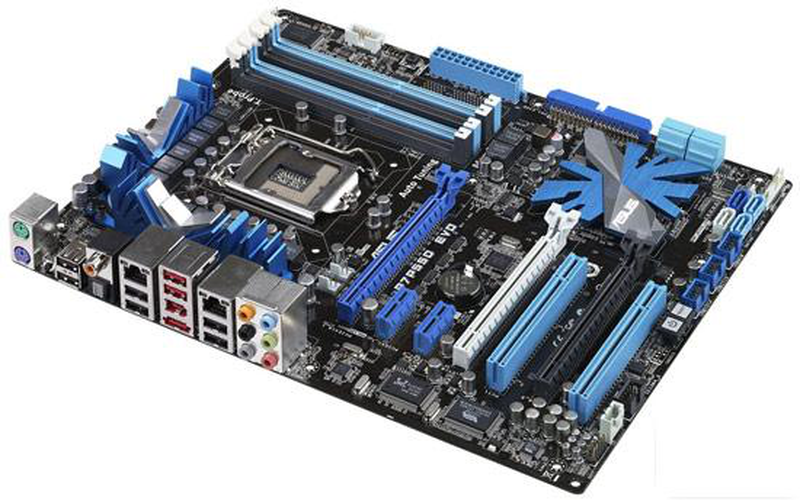Cirtuit-Board: (0, 6, 800, 500)
